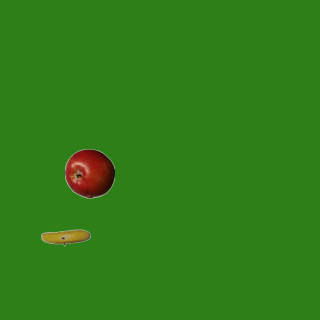Apple Braeburn: (64, 148, 114, 198)
Banana: (40, 212, 90, 262)
